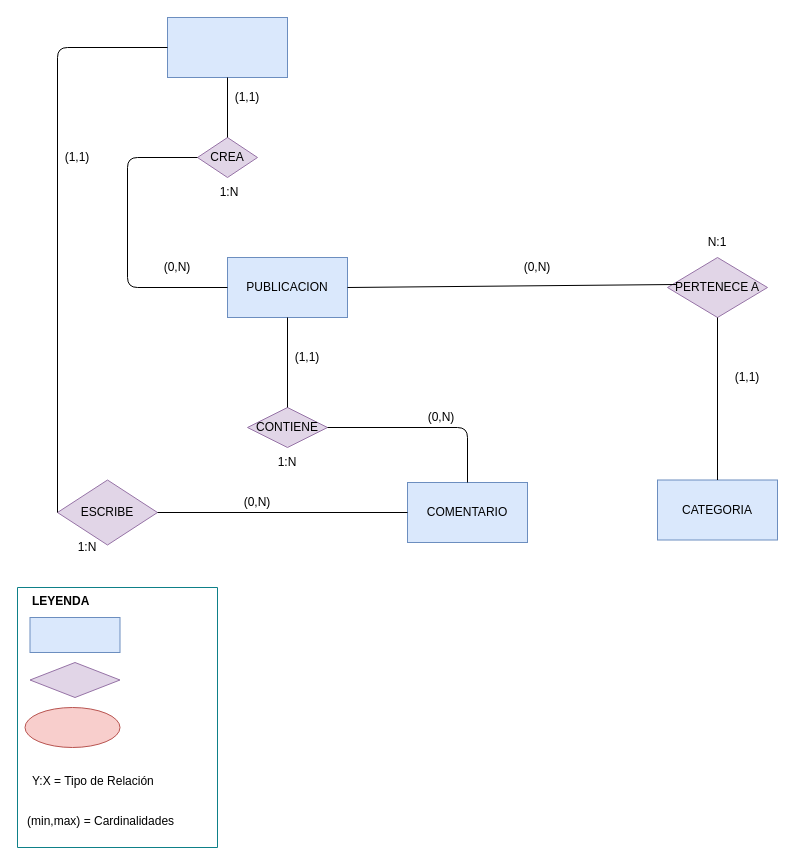
Some shapes in this 795 by 865 pixel diagram are drawn without their labels. Here are the shapes that lost their labels. From the top down, the box of each, then its label:
(166, 16, 288, 78): USUARIO
(29, 616, 120, 652): Entidad
(29, 662, 120, 698): Relación
(24, 706, 120, 748): Atributo
